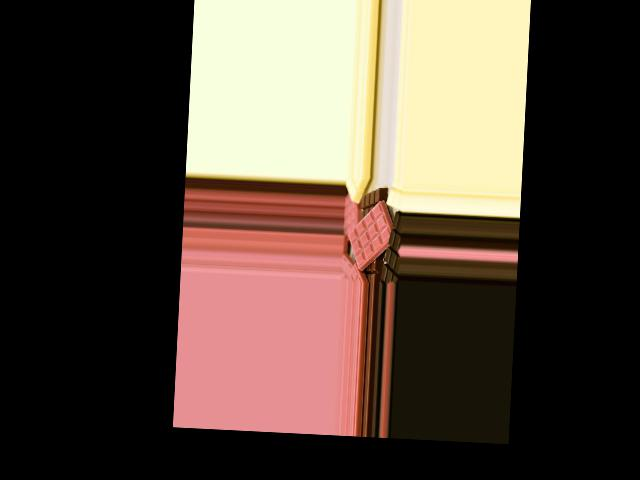chocolate: (344, 200, 403, 272)
